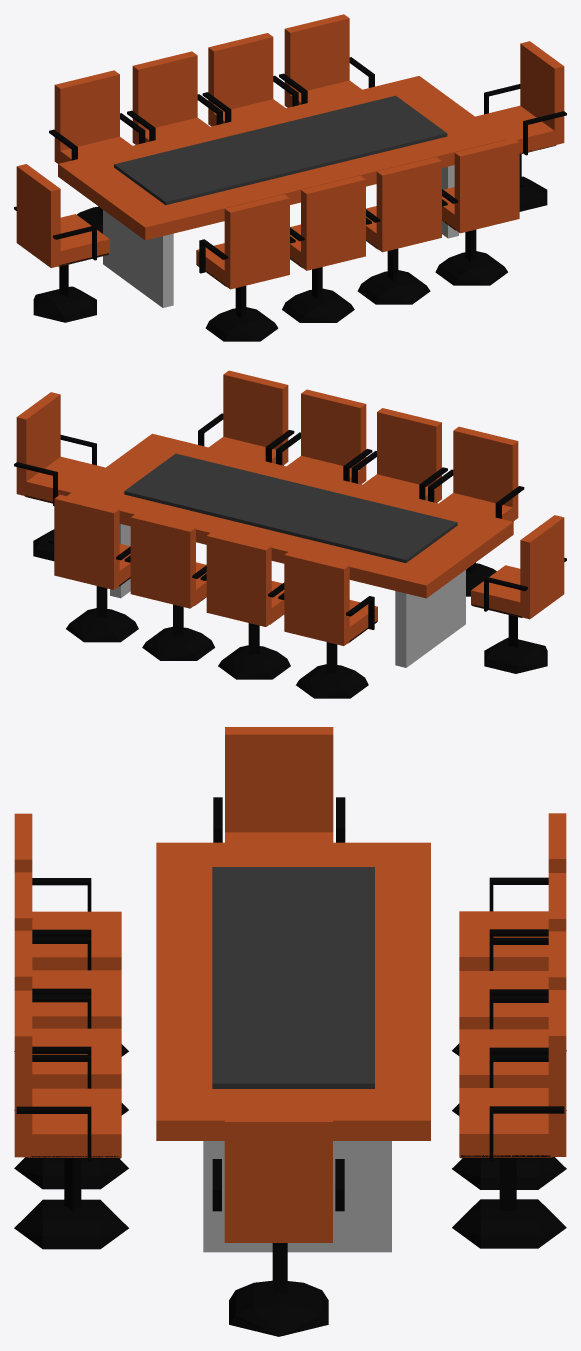
Rendered from desk.obj.
3 views of the same model, one above another, from view 1: azimuth 30°, elevation 25°; view 2: azimuth 150°, elevation 25°; view 3: azimuth 270°, elevation 25° (orthographic). The views are drawn at different scales.
Visible parts, largest first — view 1: Box01, Box02, y01, y48, y42, y36, y74, y60, y72, y66, B03, y80 (+15 smaller); view 2: Box01, Box02, y66, y60, y74, y72, y01, y48, B03, y42, y36, y80 (+17 smaller); view 3: Box01, Box02, y54, y80, B04, y61, y49, y43, y79, y31, y37, y73 (+20 smaller).
Part boxes in pixels (x1,y1,x2,y2): Box01: (58, 76, 506, 240); Box02: (114, 95, 447, 205); y01: (224, 194, 289, 289); y48: (454, 138, 519, 233); y42: (376, 157, 441, 252); y36: (301, 175, 365, 270); y74: (54, 70, 119, 163); y60: (284, 14, 349, 107); y72: (132, 51, 197, 144); y66: (208, 33, 273, 126); B03: (103, 210, 173, 307); y80: (16, 164, 60, 267); Box01: (67, 433, 513, 598); Box02: (124, 453, 457, 562); y66: (130, 513, 195, 608); y60: (54, 494, 119, 589); y74: (284, 551, 349, 645); y72: (206, 531, 271, 626); y01: (453, 426, 518, 521); y48: (223, 370, 288, 464); B03: (395, 570, 465, 667); y42: (301, 389, 366, 483); y36: (377, 408, 441, 502); y80: (520, 515, 564, 619); Box01: (156, 842, 430, 1140); Box02: (212, 867, 374, 1088); y54: (224, 1114, 332, 1242); y80: (225, 727, 333, 832); B04: (203, 1141, 391, 1252); y61: (459, 1088, 552, 1157); y49: (28, 1088, 121, 1157); y43: (32, 1028, 121, 1088); y79: (459, 911, 548, 970); y31: (32, 911, 121, 970); y37: (32, 970, 121, 1028); y73: (459, 971, 548, 1029).
Bounding box in the file's own units: 323 × 82.41 × 191.
